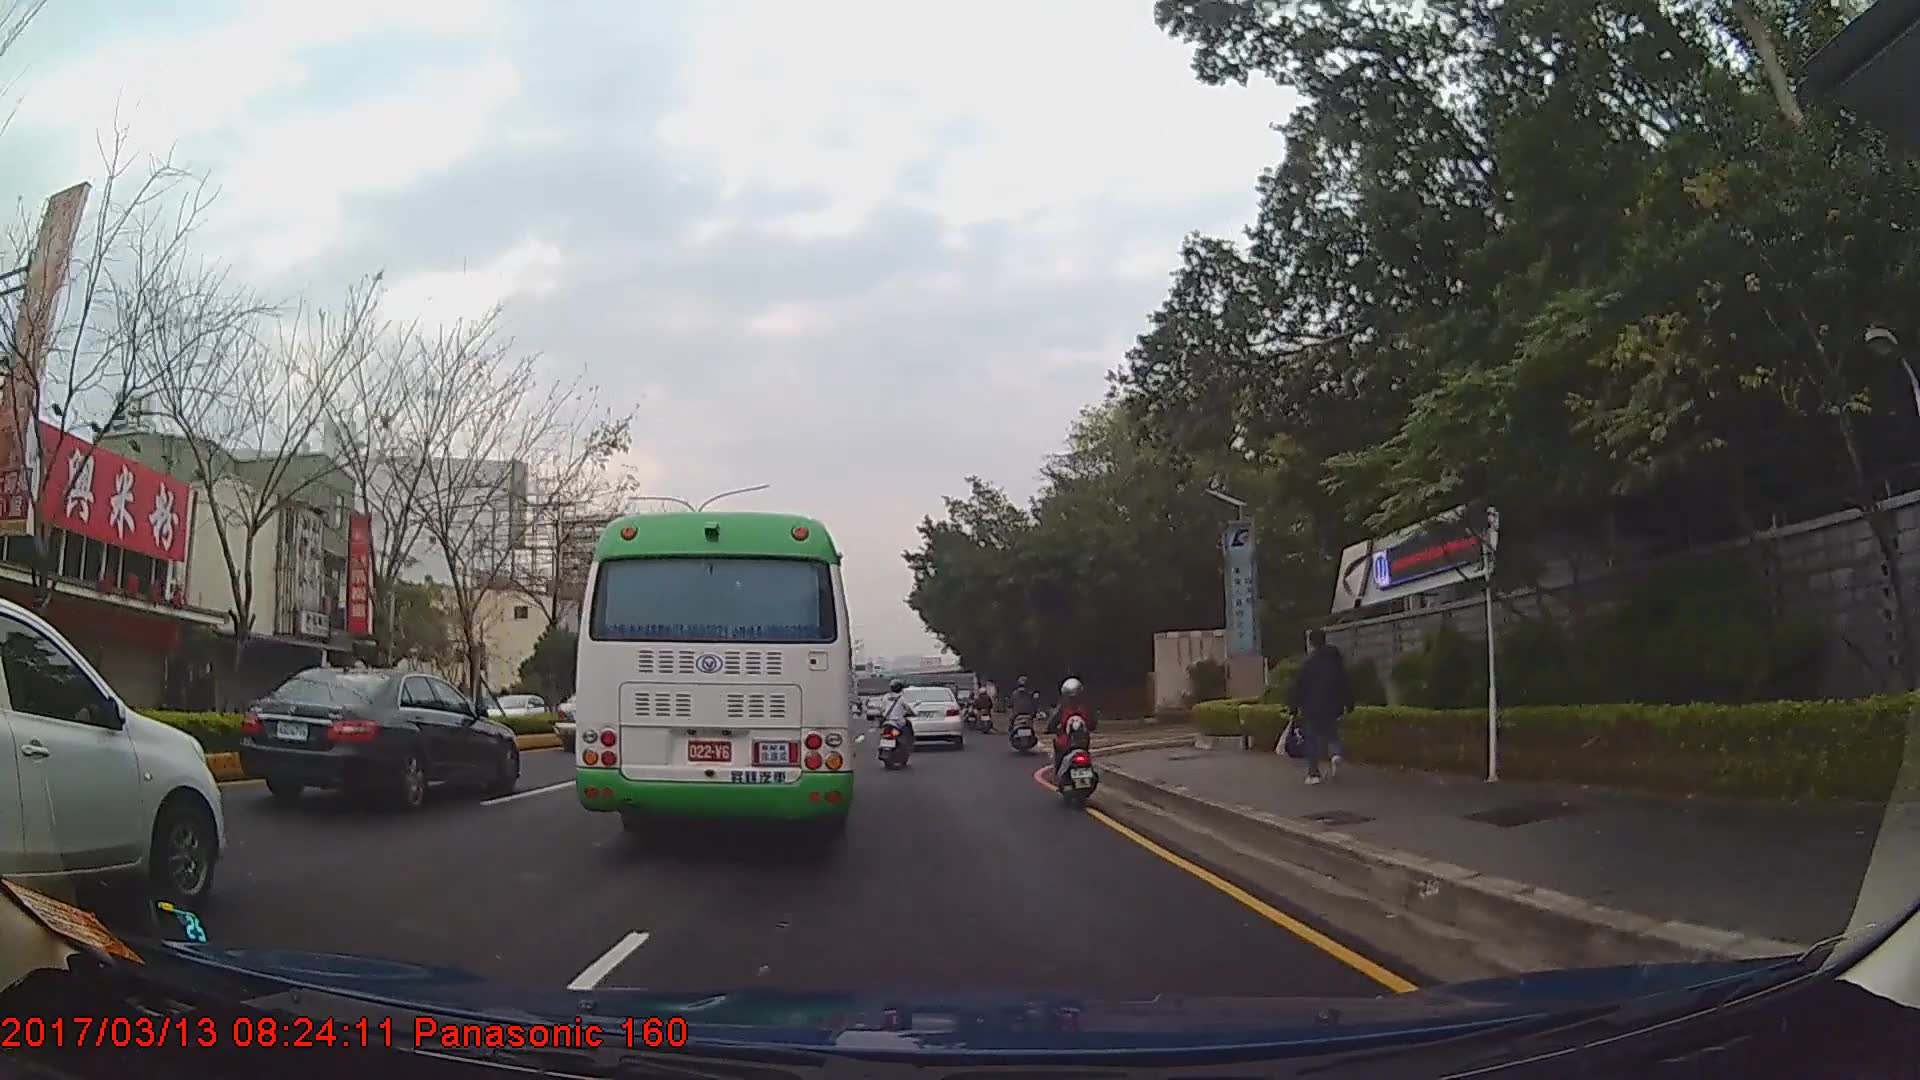pedestrian: (1278, 633, 1358, 784)
rider: (1051, 676, 1098, 803), (877, 681, 916, 769), (1007, 676, 1042, 754), (974, 688, 994, 723)
vehicle: (570, 507, 862, 850), (0, 593, 226, 911), (236, 663, 519, 807), (892, 681, 963, 750), (473, 686, 551, 729)
